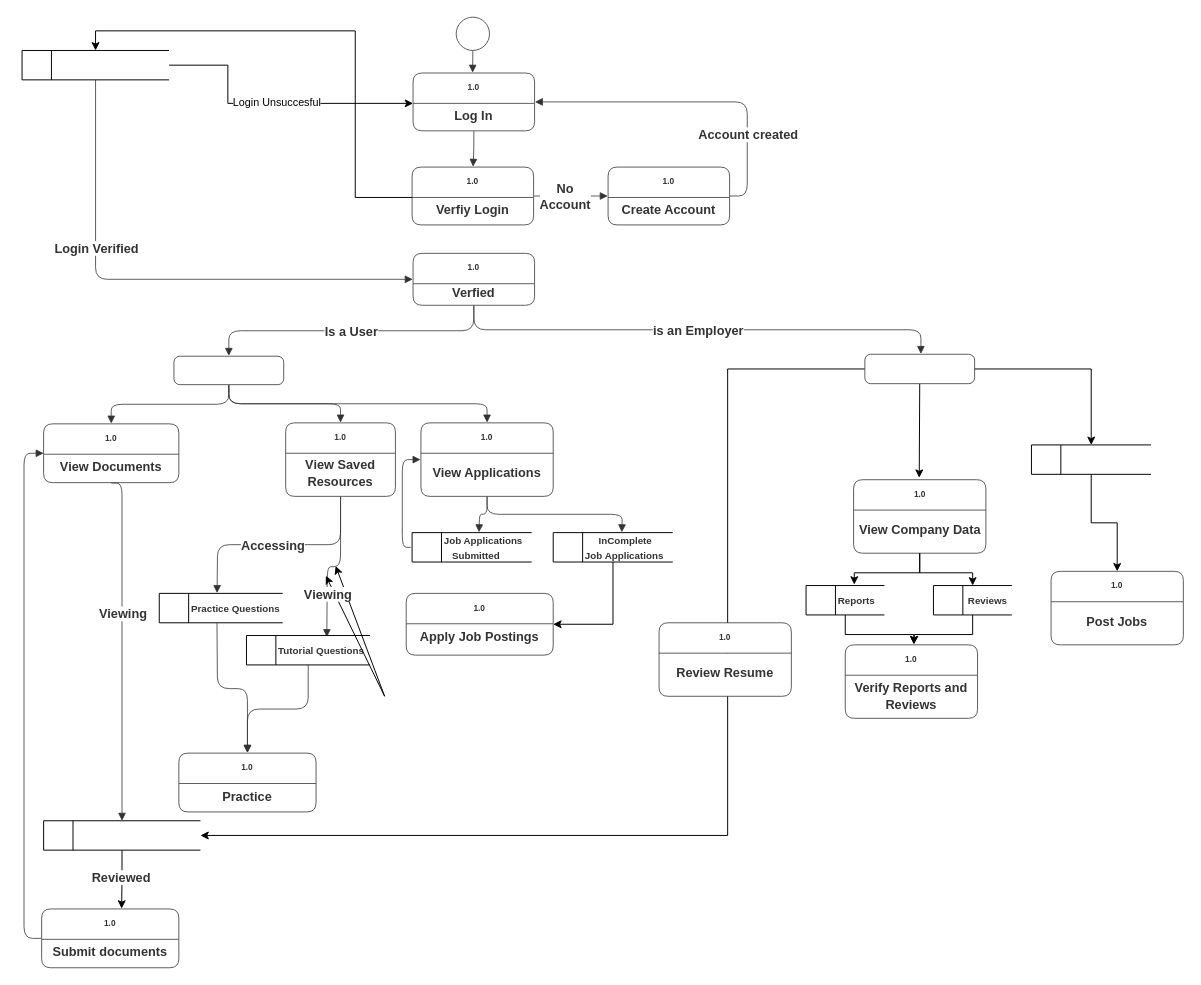
The diagram is 1201 pixels wide and 985 high, and some of its shapes have lost their labels. Here are the shapes that lost their labels. From the top down, the box of each, then its label:
(455, 16, 489, 50): START
(21, 49, 169, 80): User Name & Password
(173, 355, 284, 385): User
(864, 353, 975, 384): Company
(1030, 444, 1151, 474): Job Openings
(43, 820, 200, 850): Resume and Cover Letter
